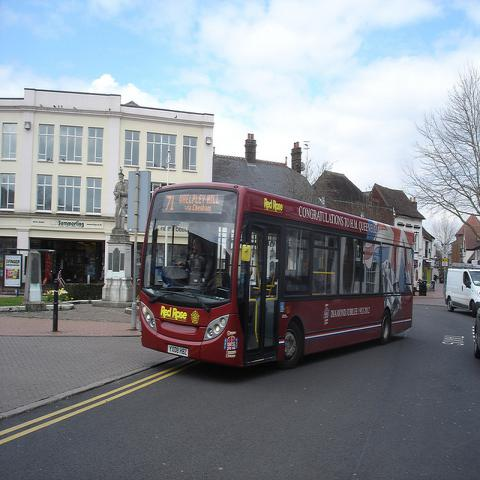bus: (136, 184, 415, 371)
car: (473, 308, 479, 357)
truck: (442, 263, 480, 318)
